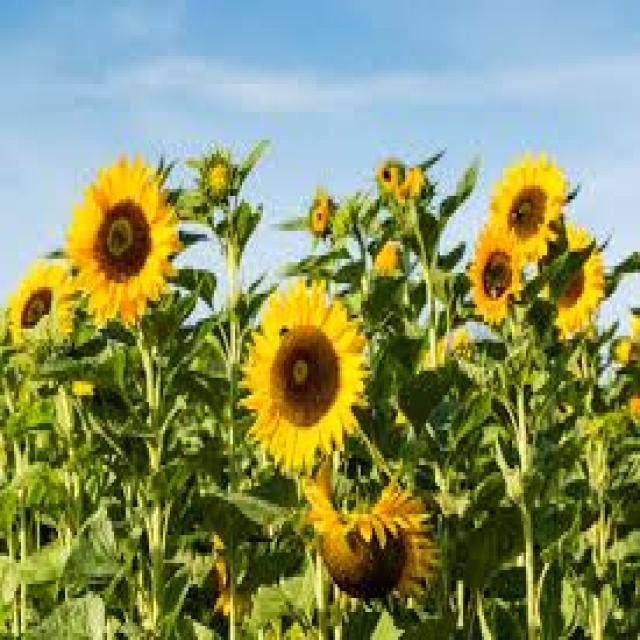sunflower: (231, 272, 383, 480), (275, 458, 444, 626), (61, 143, 190, 335), (482, 143, 570, 274), (526, 220, 608, 344), (1, 251, 83, 358), (462, 213, 526, 337), (205, 532, 255, 630), (193, 144, 244, 212), (362, 224, 416, 283), (180, 524, 228, 576), (304, 188, 342, 242), (398, 162, 429, 210), (372, 152, 404, 198), (613, 330, 640, 373)
